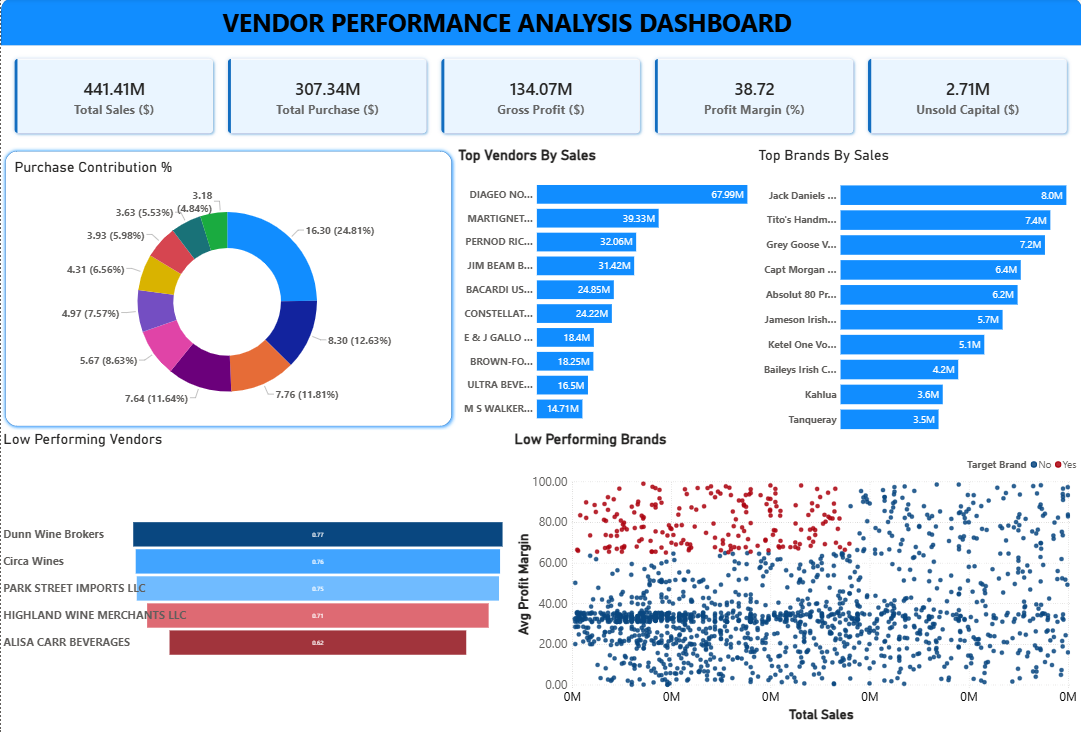

What the dashboard file says about the page in this screenshot:
{"tool":"powerbi","page":{"name":"Page 1","canvas":[2350,1600],"ordinal":0},"visuals":[{"type":"cardVisual","fields":{"Data":["Sum(vendor_sales_summary.TotalSalesDollars)","Sum(vendor_sales_summary.TotalPurchaseDollars)","Sum(vendor_sales_summary.GrossProfit)","Avg(vendor_sales_summary.ProfitMargin)","Sum(vendor_sales_summary.UnsoldCapital)"]},"box":[0,103.3,2350.6,220.1],"z":0},{"type":"shape","box":[0,0,2350.6,103.3],"z":1000},{"type":"textbox","box":[361.2,10.2,1477.6,81.5],"z":2000},{"type":"shape","box":[0,323.4,989.1,616.9],"z":3000},{"type":"donutChart","title":"Purchase Contribution %","fields":{"Y":["Sum(PurchaseContribution.PurchaseContribution%)"],"Category":["PurchaseContribution.VendorName"]},"box":[24.5,350.5,934.8,570.7],"z":4000},{"type":"clusteredBarChart","title":"Top Vendors By Sales","fields":{"Category":["vendor_sales_summary.VendorName"],"Y":["Sum(vendor_sales_summary.TotalSalesDollars)"]},"box":[989.1,323.4,652.2,616.9],"z":5000},{"type":"clusteredBarChart","title":"Top Brands By Sales","fields":{"Category":["BrandPerformance.Description"],"Y":["Sum(BrandPerformance.TotalSales)"]},"box":[1641.3,323.4,682.1,641.3],"z":6000},{"type":"funnel","title":"Low Performing Vendors","fields":{"Category":["LowTurnoverVendor.VendorName"],"Y":["Avg(LowTurnoverVendor.AvgStockTurnOver)"]},"box":[0,940.2,1100.5,635.9],"z":7000},{"type":"scatterChart","title":"Low Performing Brands","fields":{"X":["Sum(BrandPerformance.TotalSales)"],"Y":["Sum(BrandPerformance.AvgProfitMargin)"],"Category":["BrandPerformance.Description"],"Series":["BrandPerformance.TargetBrand"]},"box":[1111.4,940.2,1238.1,636.9],"z":8000}]}

Visuals, with their boxes in screenshot pixels (x1, y1, x2, y2), scaled from the page's 2350x1600 canvas onto the 1081x732 screenshot:
cardVisual - Sum(vendor_sales_summary.TotalSalesDollars) x Sum(vendor_sales_summary.TotalPurchaseDollars): rect(0, 47, 1080, 148)
shape: rect(0, 0, 1080, 47)
textbox: rect(166, 5, 846, 42)
shape: rect(0, 148, 455, 430)
"Purchase Contribution %" donutChart: rect(11, 160, 441, 421)
"Top Vendors By Sales" clusteredBarChart: rect(455, 148, 755, 430)
"Top Brands By Sales" clusteredBarChart: rect(755, 148, 1069, 441)
"Low Performing Vendors" funnel: rect(0, 430, 506, 721)
"Low Performing Brands" scatterChart: rect(511, 430, 1080, 722)
